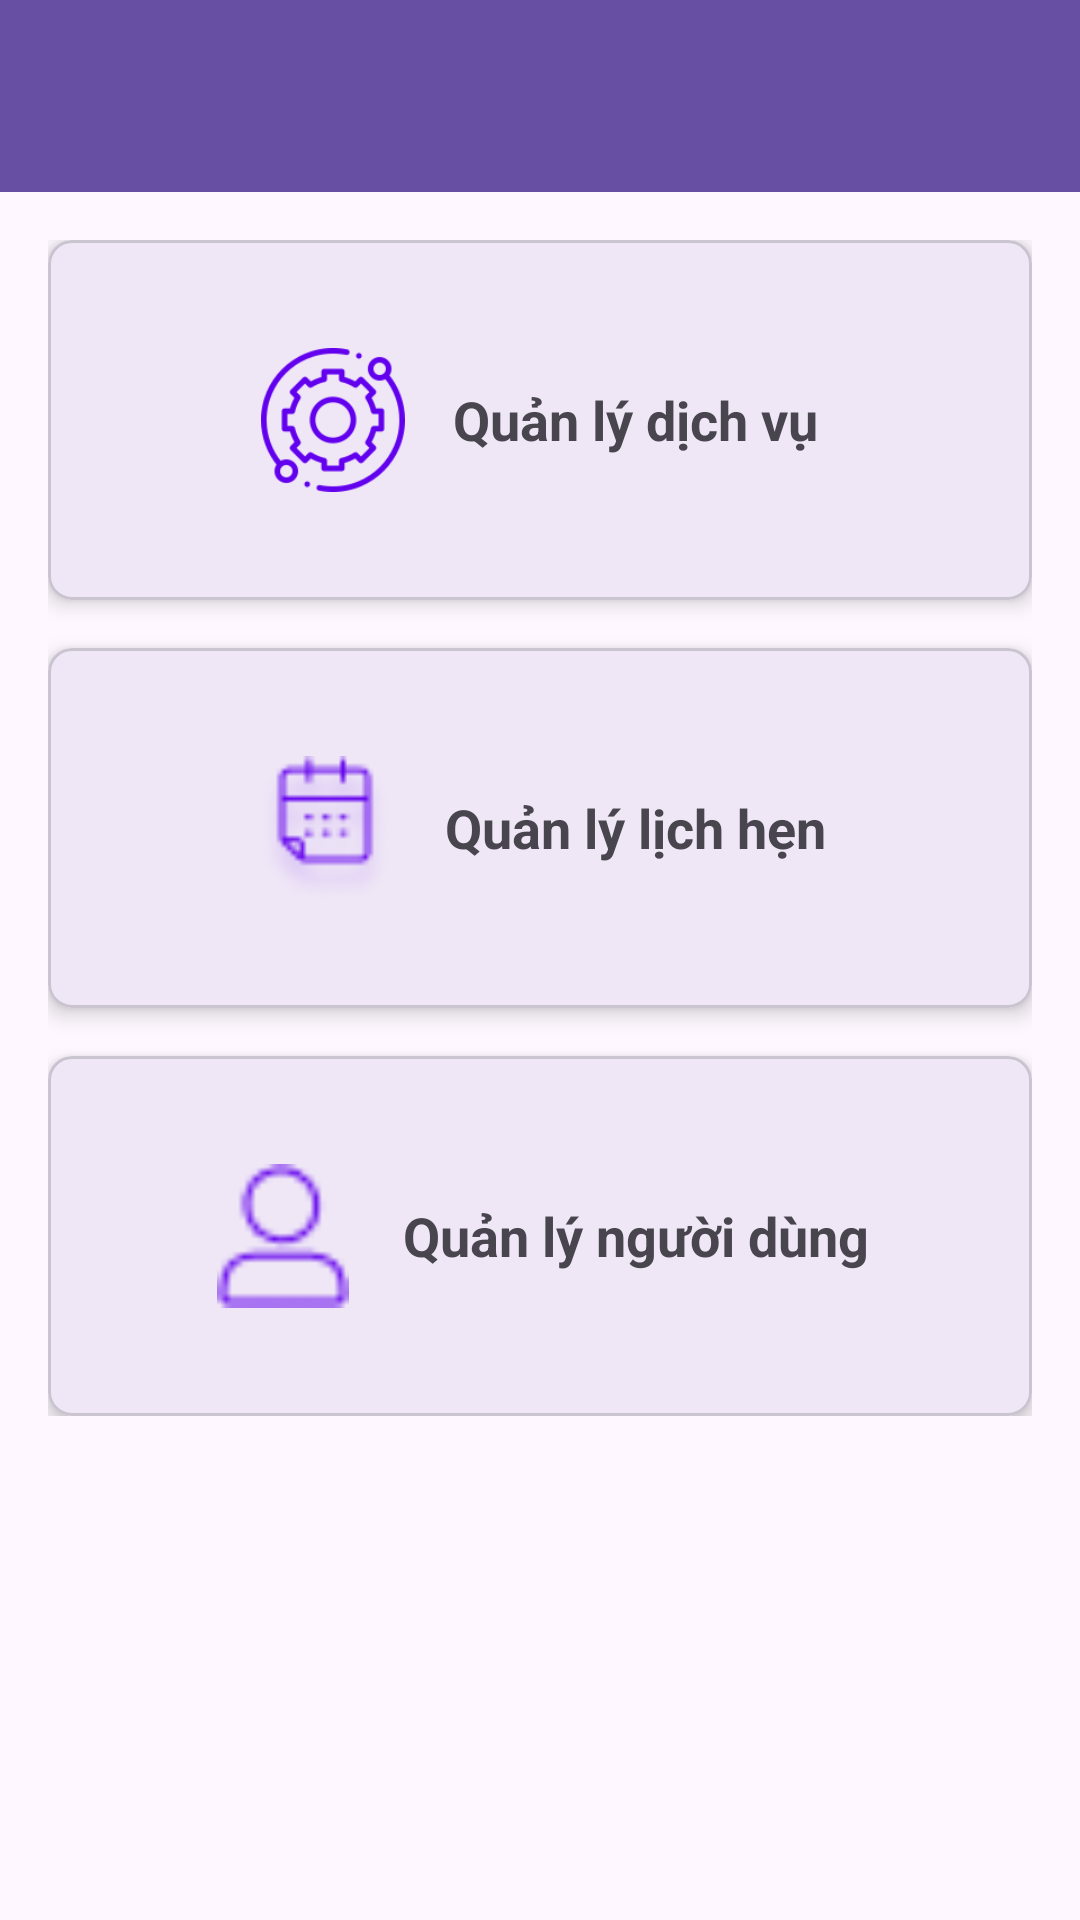

Named icons in this screenshot (1080 x 1920) and their centers, (x=x, y=y):
booking: (x=325, y=811)
profile: (x=283, y=1236)
serviceadmin: (x=333, y=420)
